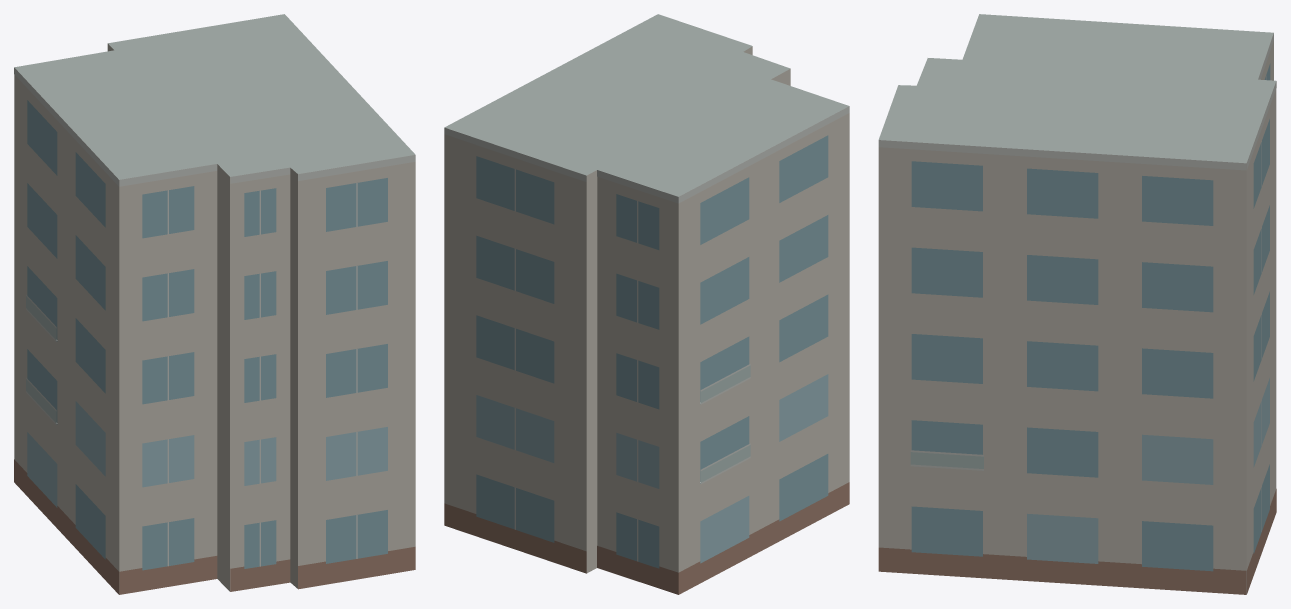
The model's file is survey-upis-32802414.glb.
The picture shows the model from 3 angles, left to right: view 1: azimuth 30°, elevation 25°; view 2: azimuth 150°, elevation 25°; view 3: azimuth 270°, elevation 25°; orthographic projection. The views are drawn at different scales.
Visible parts, largest first — view 1: survey-upis-32802414.tmp; view 2: survey-upis-32802414.tmp; view 3: survey-upis-32802414.tmp.
Boxes of the visible parts, left/top/right/bottom form: survey-upis-32802414.tmp: left=14, top=14, right=415, bottom=594; survey-upis-32802414.tmp: left=444, top=14, right=849, bottom=594; survey-upis-32802414.tmp: left=878, top=14, right=1276, bottom=594.
Bounding box in the file's own units: 10.84 × 14.6 × 12.21.
